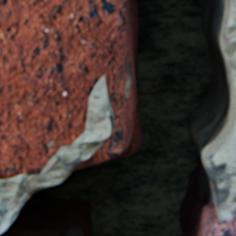brick: (0, 0, 124, 178), (80, 147, 99, 163)
broken_brick: (210, 214, 235, 235)
crack: (0, 0, 235, 235)
